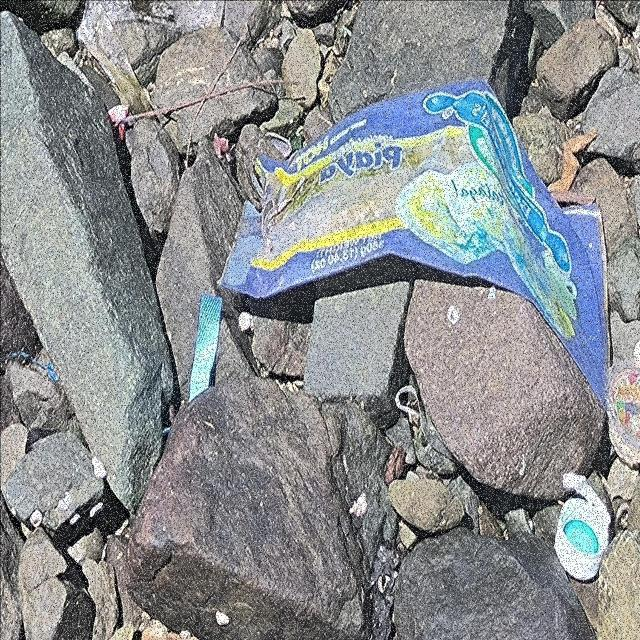plastic_waste: (219, 80, 611, 415), (556, 497, 612, 582)
